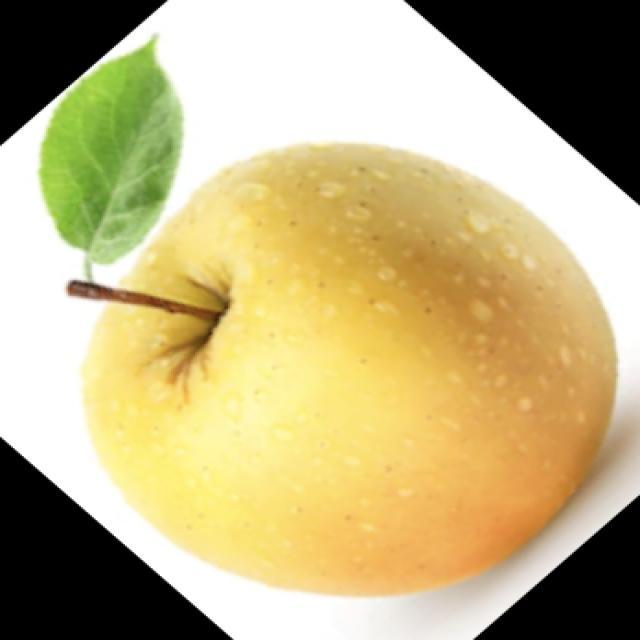Fresh Apple: (79, 134, 620, 600)
